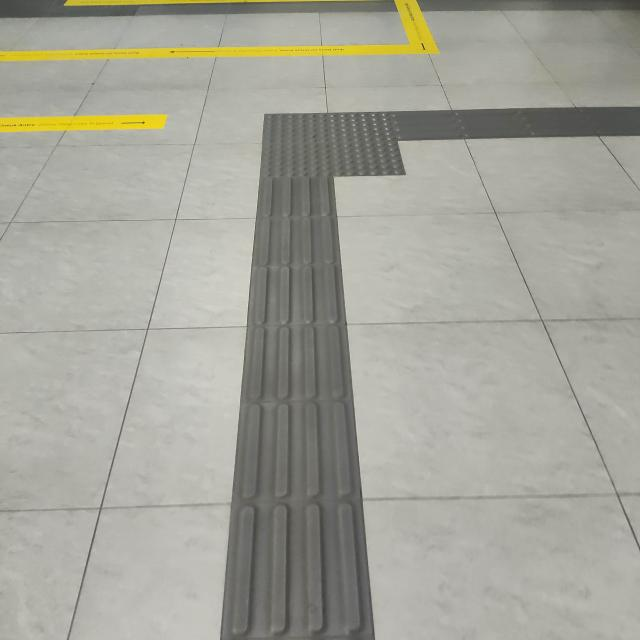kanan: (208, 82, 526, 210)
